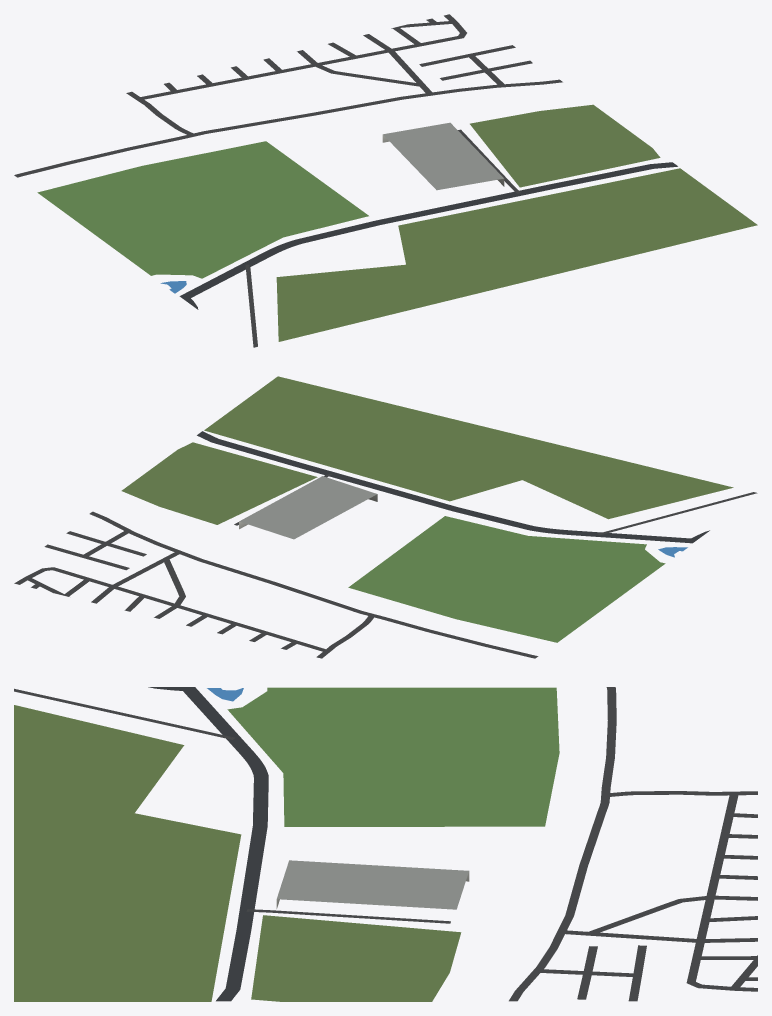
The picture shows the model from 3 angles, top to bottom: view 1: azimuth 30°, elevation 25°; view 2: azimuth 150°, elevation 25°; view 3: azimuth 270°, elevation 25°; orthographic projection. The views are drawn at different scales.
Parts seen in each view (by area): view 1: ground, building; view 2: ground, building; view 3: ground, building.
Part boxes in pixels (x1,y1,x2,y2): ground: (14,14,757,347); building: (382,122,504,190); ground: (14,376,757,658); building: (239,476,377,539); ground: (14,687,757,1001); building: (276,860,469,909).
Bounding box in the file's own units: 500 × 8 × 500.
